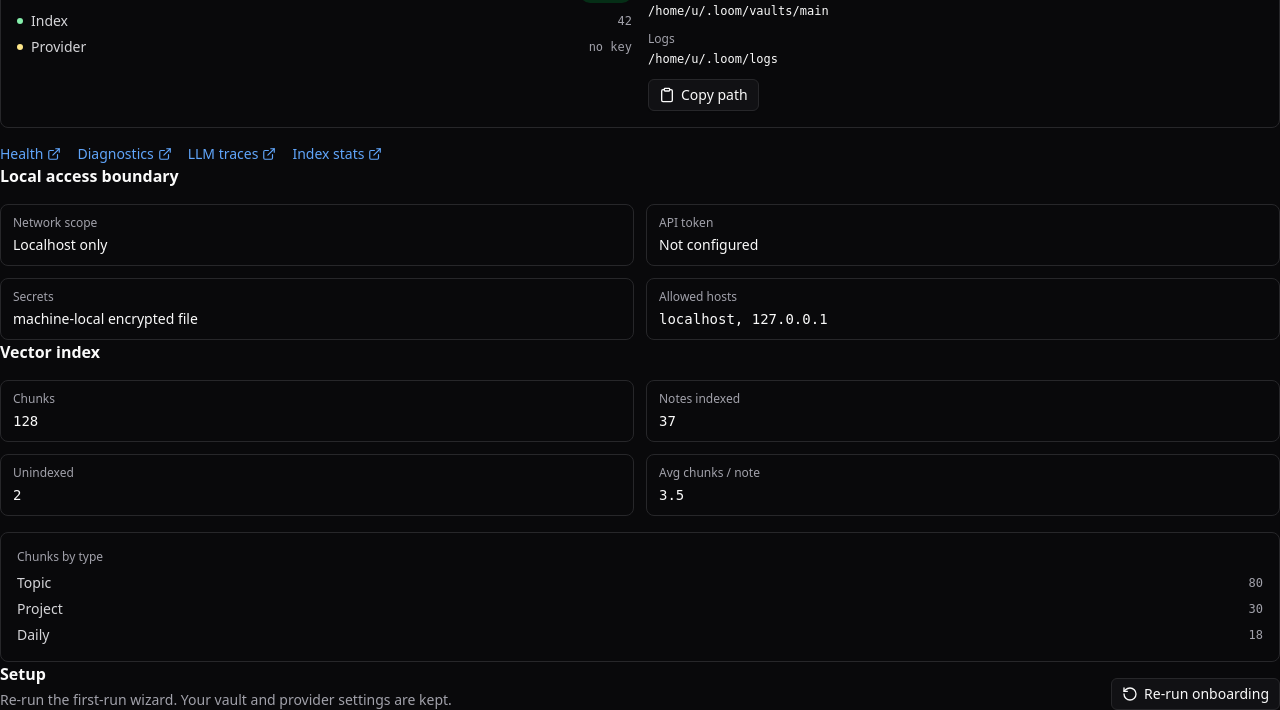
it: AboutSection › does not re-run onboarding when the confirm is cancelled
This screenshot has width=1280, height=710.
(page scrolled)
Click the button "Re-run onboarding": (1196,694) [1111,678,1279,709]
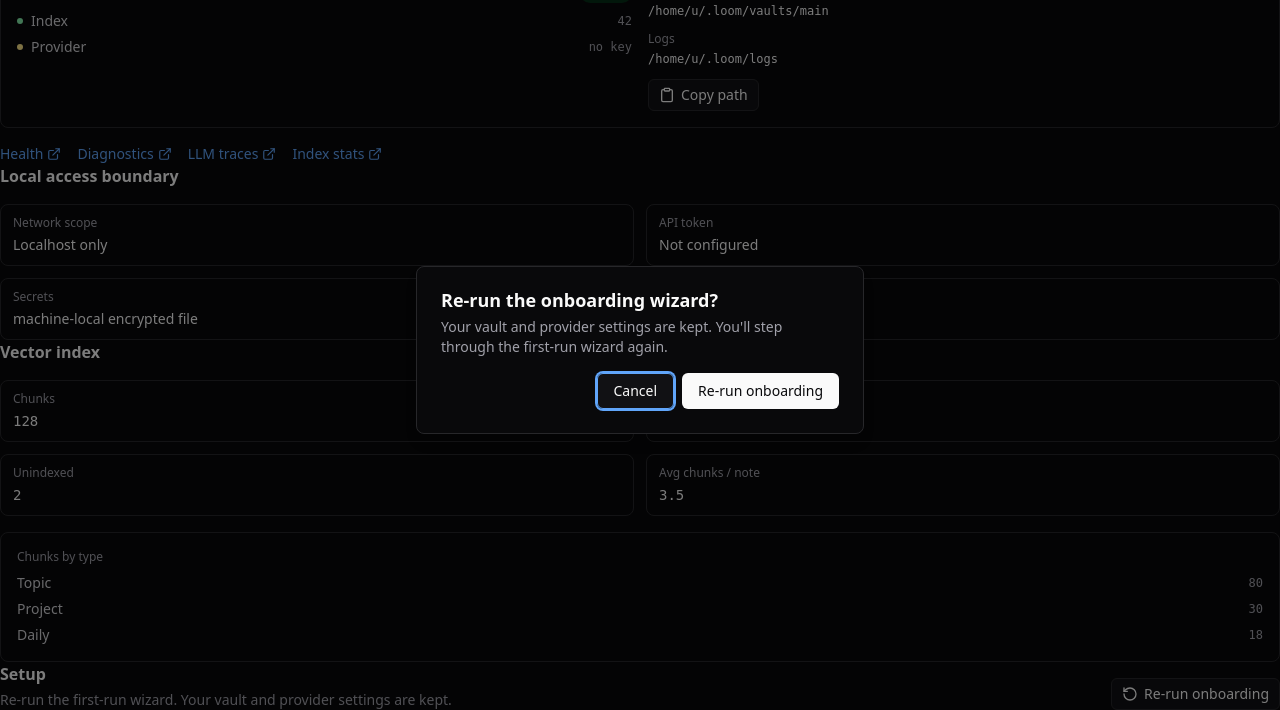
Click the button "Cancel": (635,391) [596,373,674,409]
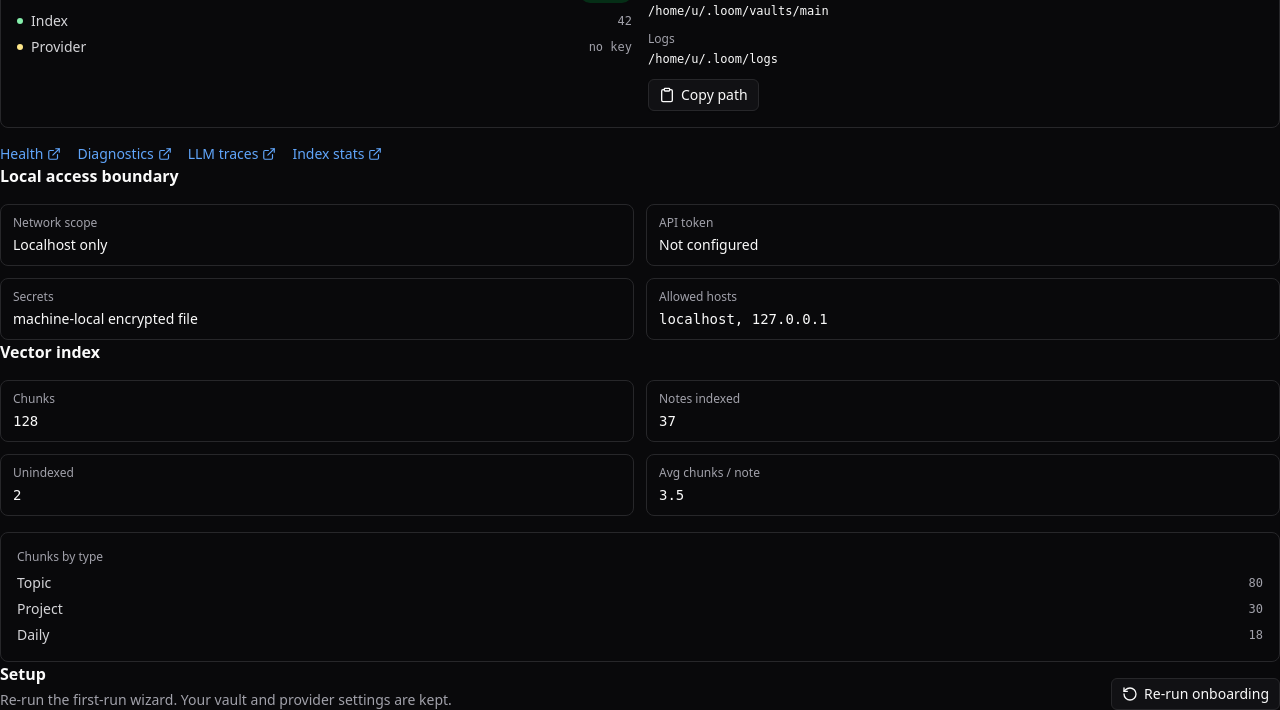
Expected: the dialog is gone
